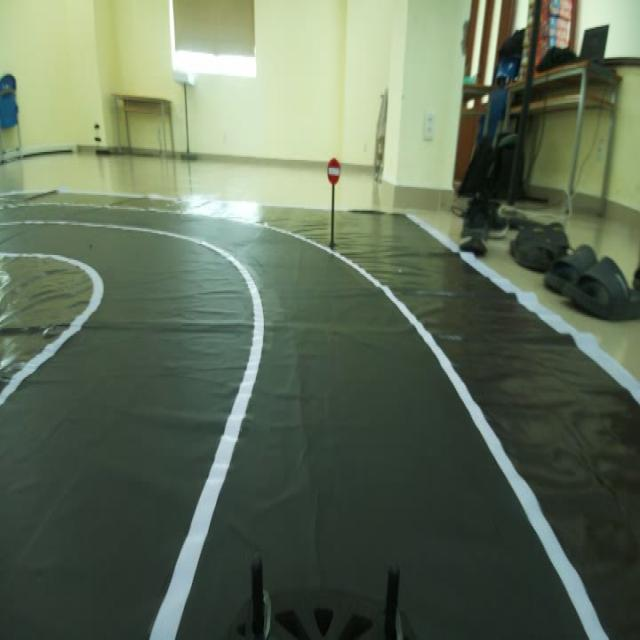no_entry: (322, 147, 344, 192)
